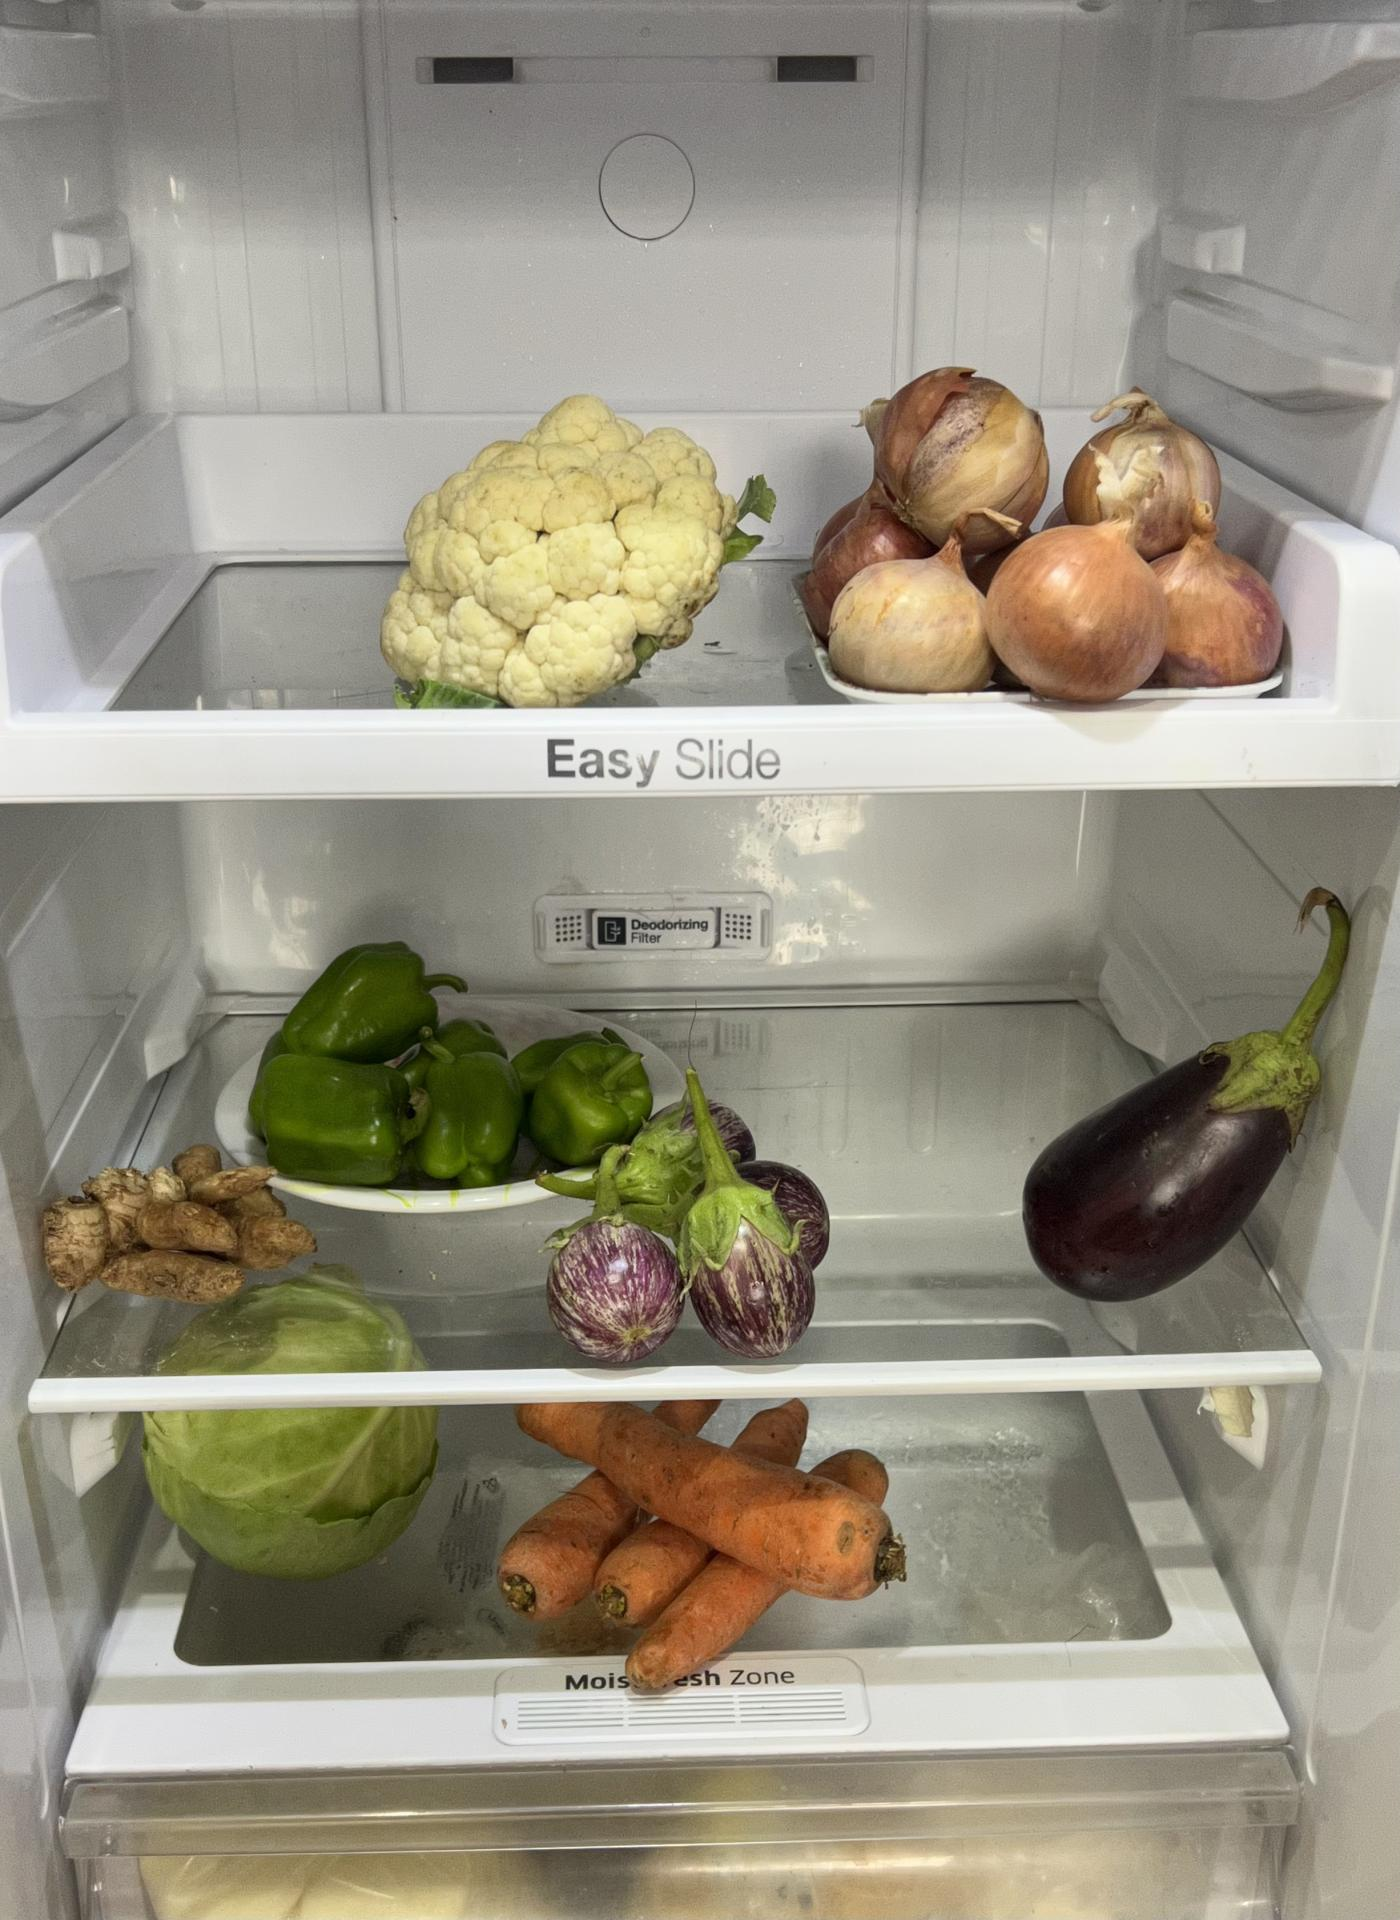cabbage: (139, 1391, 441, 1588)
capsicum: (246, 944, 658, 1197)
carrots: (489, 1398, 906, 1690)
cauliflower: (370, 388, 744, 701)
ginger: (42, 1146, 319, 1315)
onion: (802, 365, 1291, 693)
